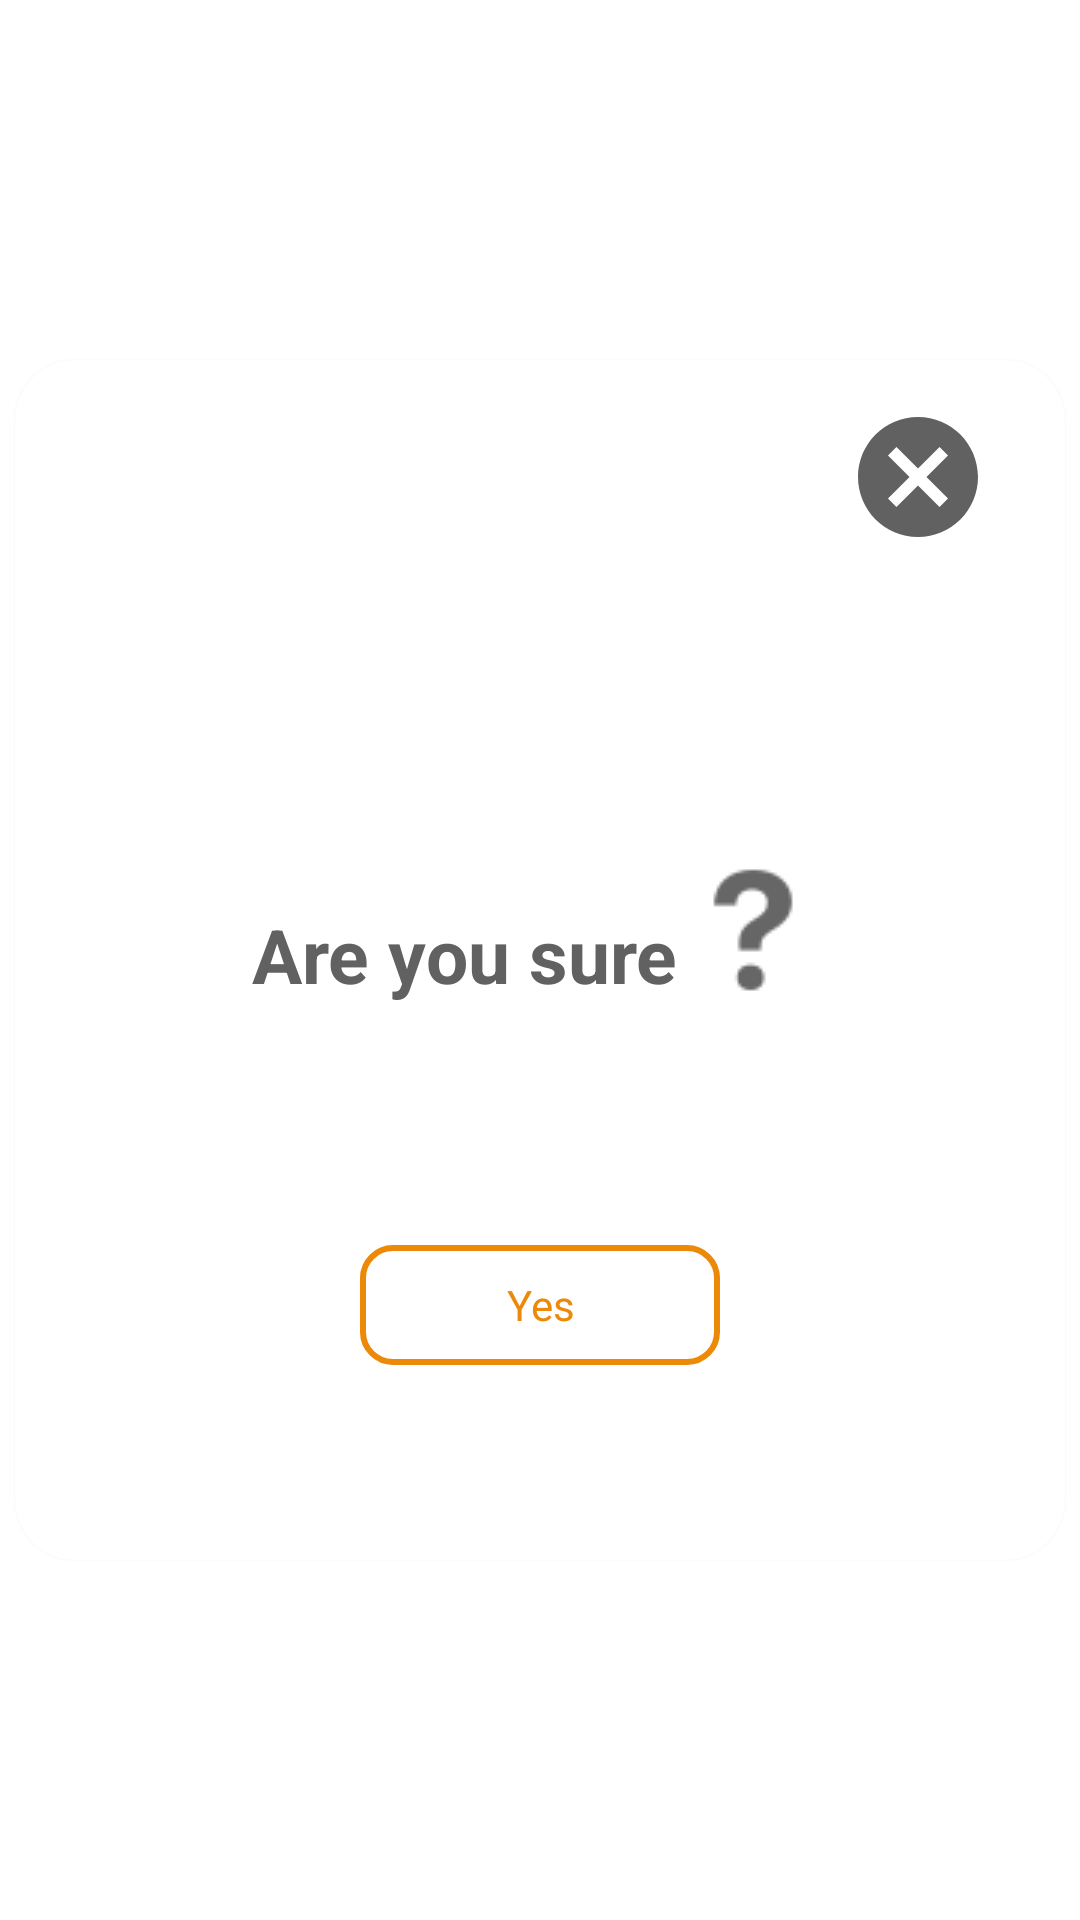

Icons on this 1080px x 1920px Android screen, each with the point to tap as [x,y]:
cancel: [918,477]
